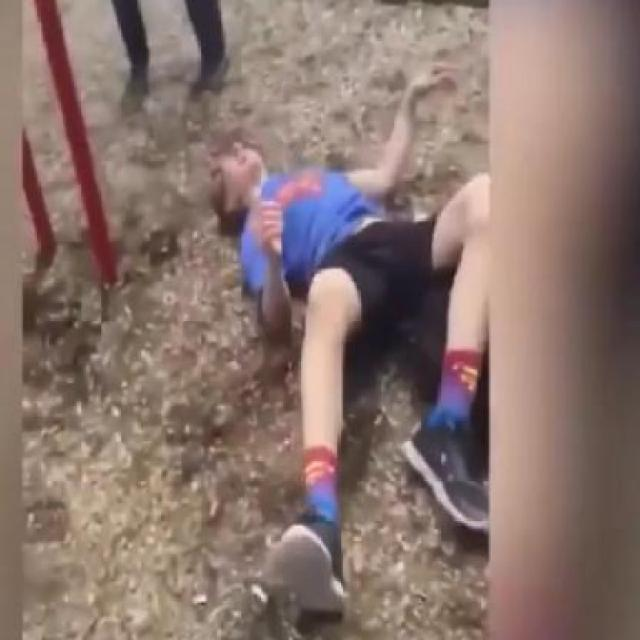fall: (207, 69, 493, 616)
